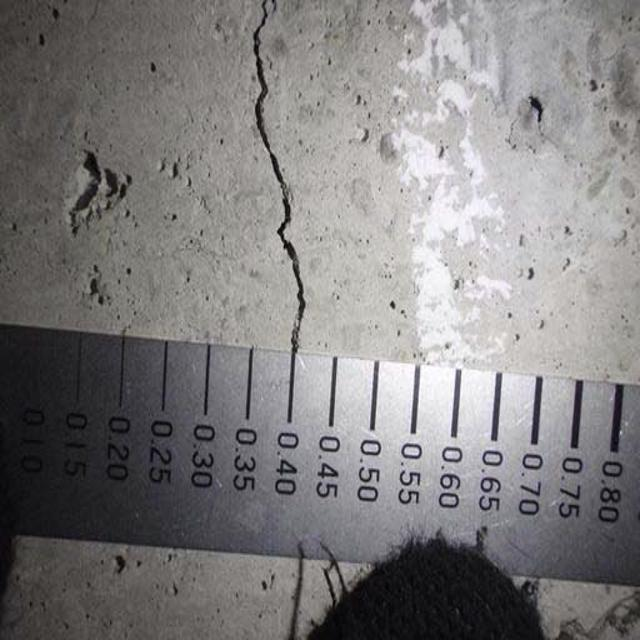crack: (234, 3, 330, 356)
